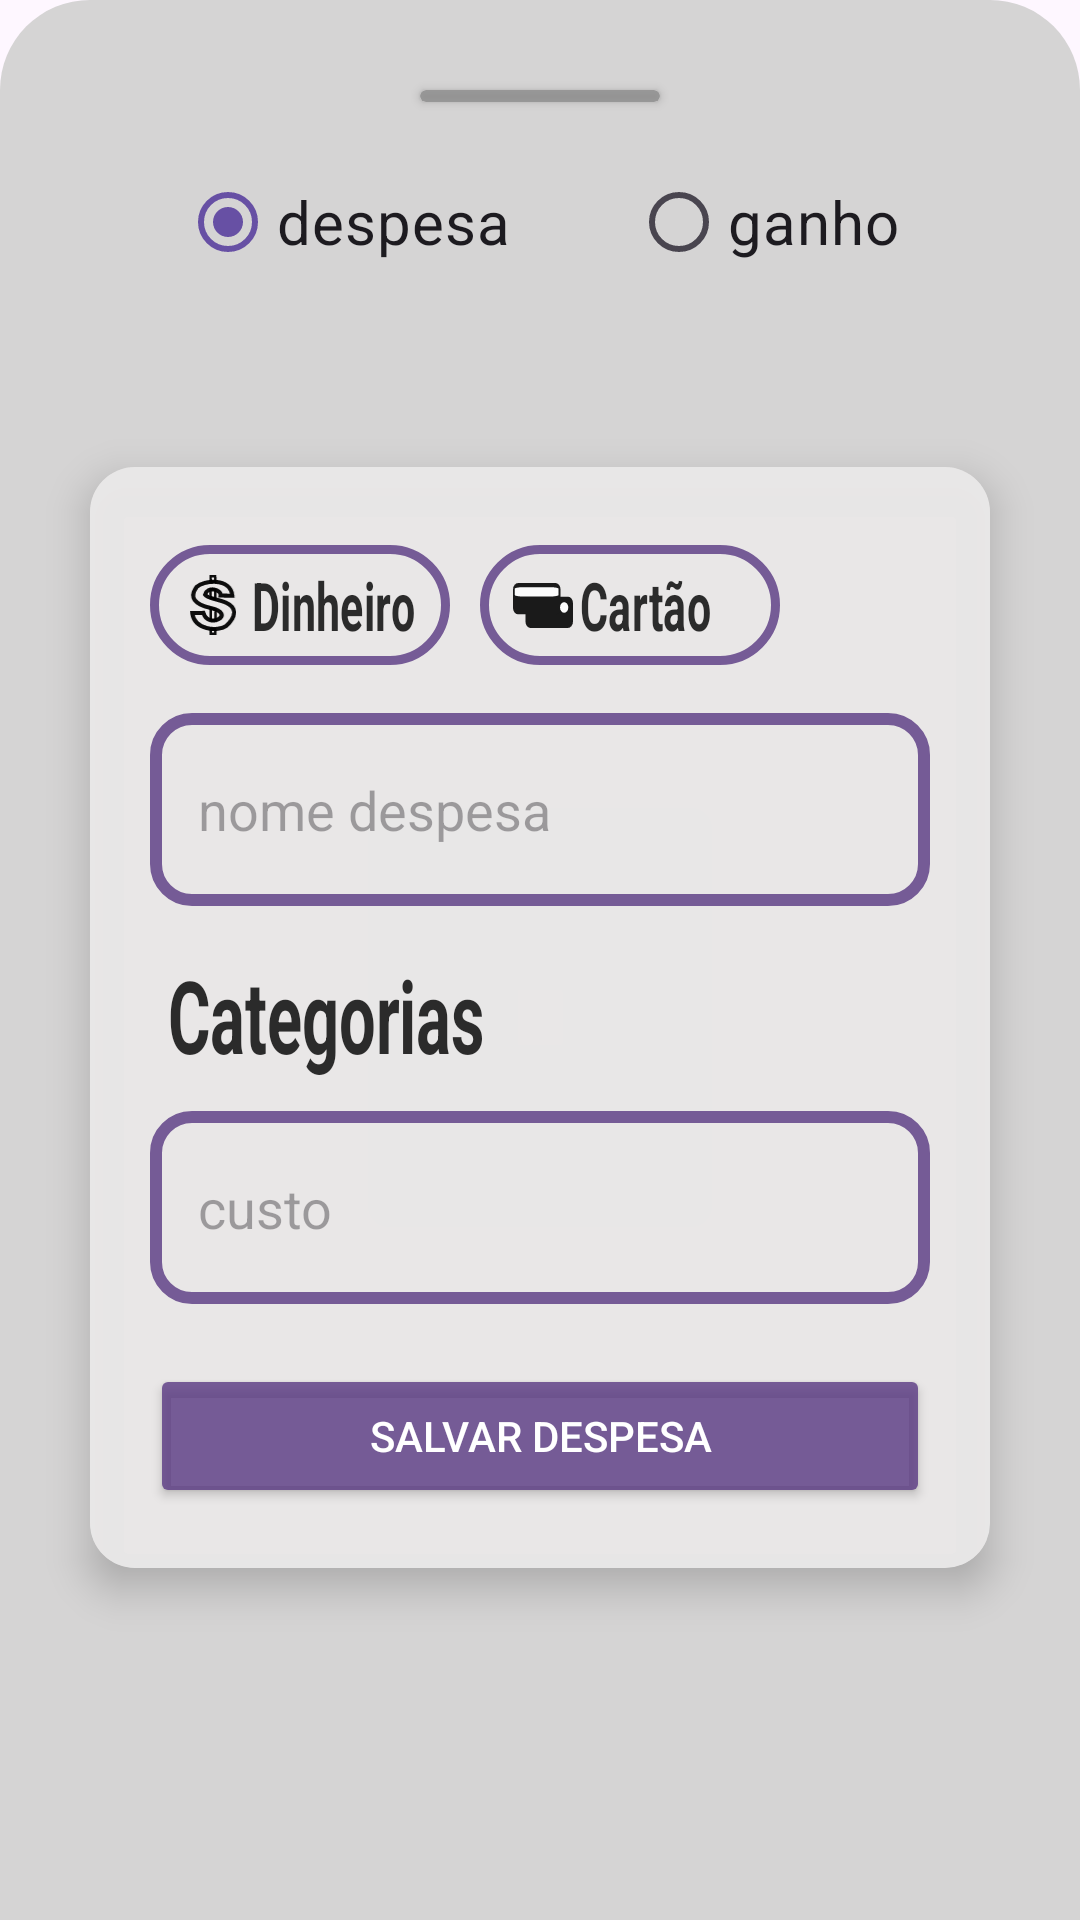

Named icons in this screenshot (1080*1920) and their centers, point (x, y):
card: point (543, 605)
cash: point (213, 605)
